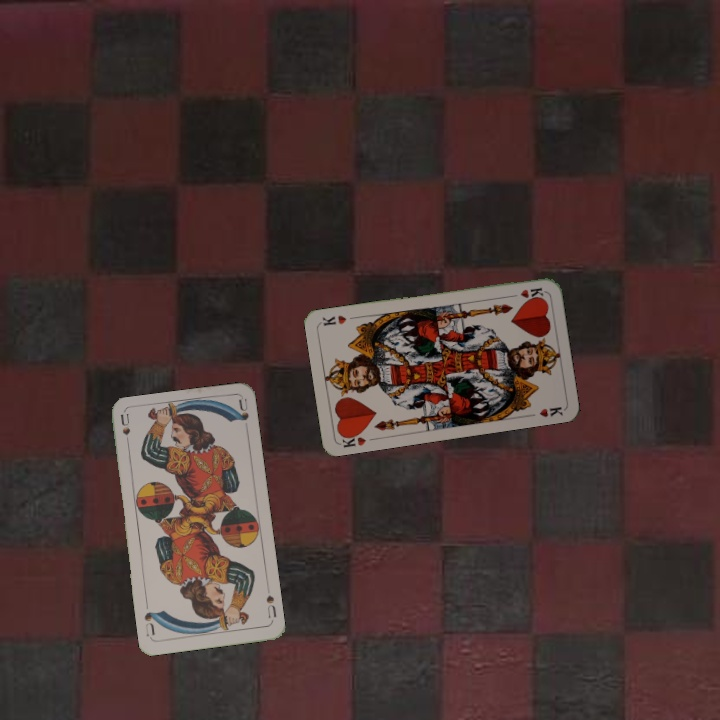HK: (336, 428, 368, 450), (505, 284, 546, 301)
SU: (117, 411, 132, 452), (262, 591, 279, 624)
